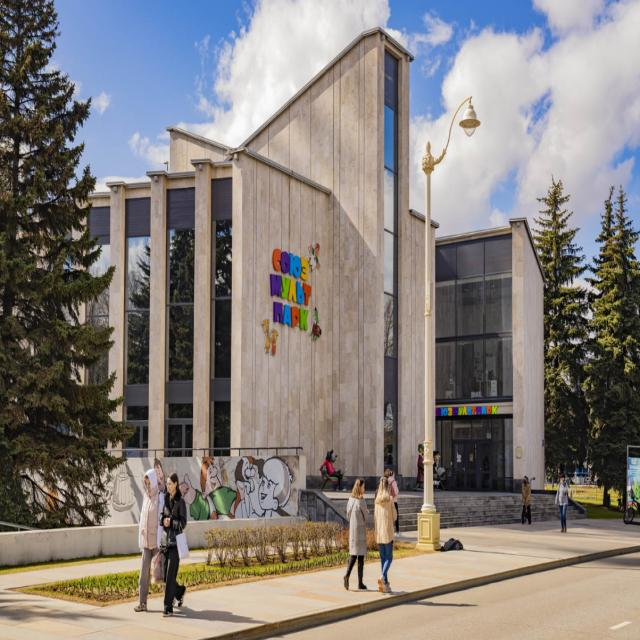gena: (418, 440, 427, 487)
shapoklyak: (433, 448, 441, 482)
volk: (317, 443, 342, 489)
